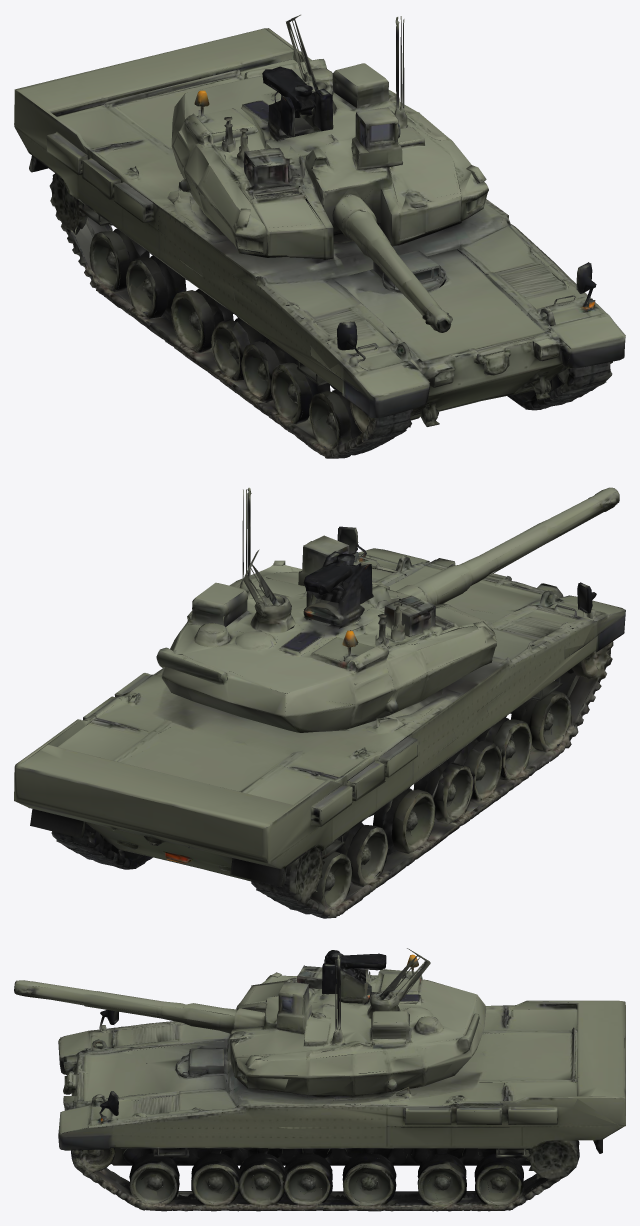
File: tank_lite.glb
3 views of the same model, one above another, from view 1: azimuth 30°, elevation 25°; view 2: azimuth 150°, elevation 25°; view 3: azimuth 270°, elevation 25° (orthographic). The views are drawn at different scales.
Visible parts, largest first — view 1: node_0; view 2: node_0; view 3: node_0.
Boxes of the visible parts, x1=… form: node_0: x1=14, y1=14, x2=625, y2=458; node_0: x1=14, y1=487, x2=625, y2=918; node_0: x1=14, y1=948, x2=625, y2=1211.
Bounding box in the file's own units: 0.4582 × 0.4887 × 1.12.
1 material, 1 textured.
